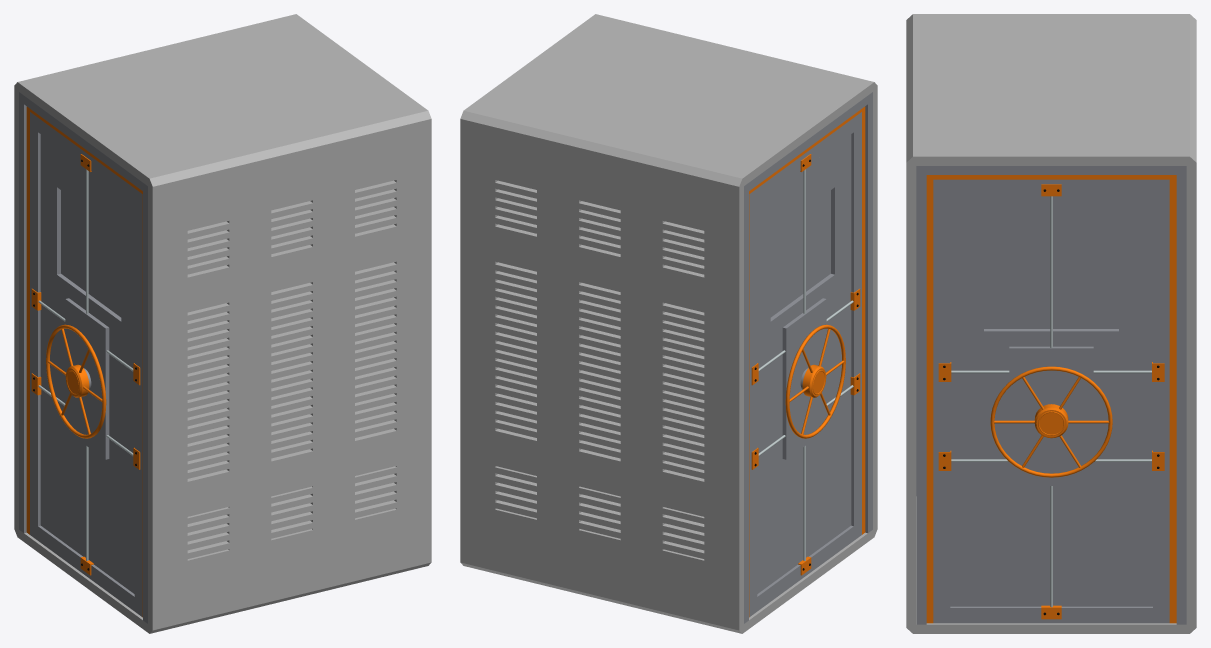
The model's file is 微波炉.FBX.
3 renders of one model, left to right at view 1: azimuth 30°, elevation 25°; view 2: azimuth 150°, elevation 25°; view 3: azimuth 270°, elevation 25°, orthographic. The views are drawn at different scales.
Visible parts, largest first — view 1: Rectangle276, Rectangle470, Rectangle273, Rectangle271, Line069, Rectangle275, Rectangle274, Rectangle471, Line070, Rectangle373, Torus001, Cylinder001 (+1 smaller); view 2: Rectangle373, Rectangle470, Rectangle273, Rectangle271, Line069, Rectangle275, Rectangle274, Rectangle471, Line070, Rectangle276, Torus001, Cylinder001 (+1 smaller); view 3: Rectangle474, Rectangle470, Rectangle473, Line078, Rectangle476, Rectangle475, Line079, Rectangle276, Rectangle373, Rectangle471, Torus002, Circle359 (+2 smaller).
Boxes of the visible parts, x1,y1,x2,y2 form: Rectangle276: (148, 122, 431, 627); Rectangle470: (14, 14, 431, 189); Rectangle273: (40, 134, 134, 593); Rectangle271: (30, 112, 142, 616); Line069: (19, 92, 147, 623); Rectangle275: (61, 190, 121, 317); Rectangle274: (65, 298, 109, 459); Rectangle471: (14, 526, 431, 633); Line070: (26, 106, 142, 617); Rectangle373: (14, 88, 18, 529); Torus001: (46, 324, 106, 438); Cylinder001: (86, 169, 88, 560); Rectangle373: (460, 122, 743, 627); Rectangle470: (460, 14, 877, 189); Rectangle273: (757, 134, 851, 593); Rectangle271: (749, 112, 861, 616); Line069: (744, 92, 872, 623); Rectangle275: (770, 190, 830, 317); Rectangle274: (782, 298, 826, 459); Rectangle471: (460, 526, 877, 633); Line070: (749, 106, 865, 617); Rectangle276: (873, 88, 877, 529); Torus001: (785, 324, 845, 438); Cylinder001: (803, 169, 805, 560); Rectangle474: (950, 195, 1152, 606); Rectangle470: (906, 14, 1196, 165); Rectangle473: (933, 179, 1169, 623); Line078: (916, 166, 1186, 624); Rectangle476: (984, 239, 1118, 328); Rectangle475: (1009, 346, 1093, 485); Line079: (926, 175, 1176, 623); Rectangle276: (906, 166, 916, 624); Rectangle373: (1186, 166, 1196, 624); Rectangle471: (906, 496, 1196, 633); Torus002: (990, 366, 1112, 477); Circle359: (1034, 404, 1068, 438).
Size of the model in its own units: 42.44 by 61.42 by 33.86.
